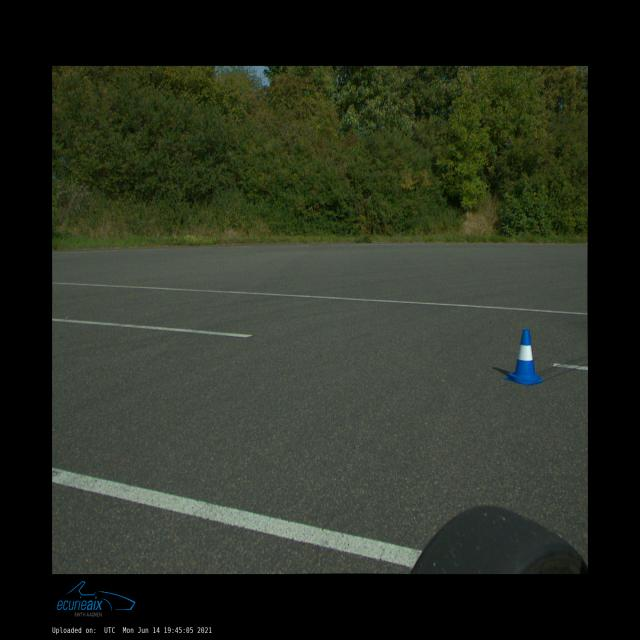blue_cone: (504, 329, 544, 385)
